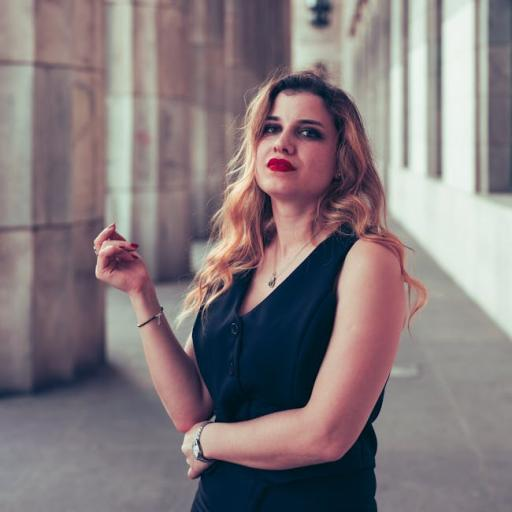lipstick: (268, 159, 295, 172)
